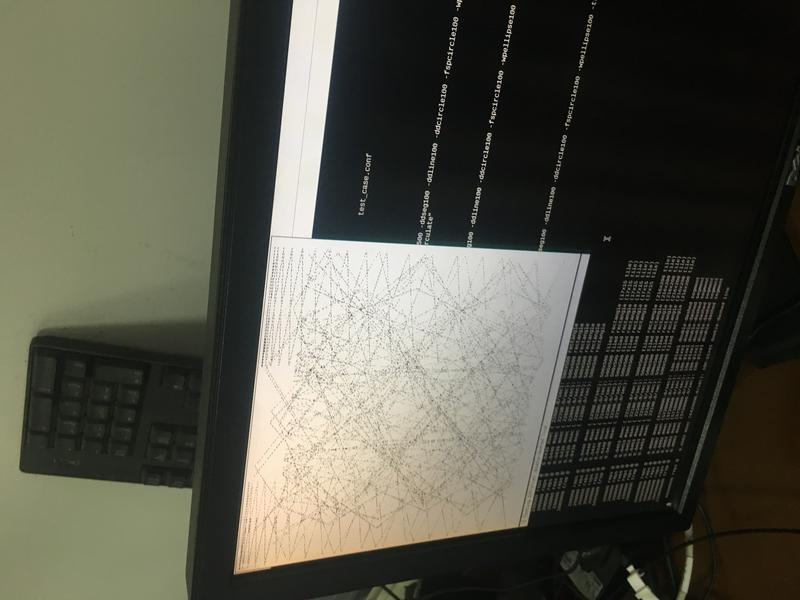xrandr_pass: (228, 221, 607, 563)
